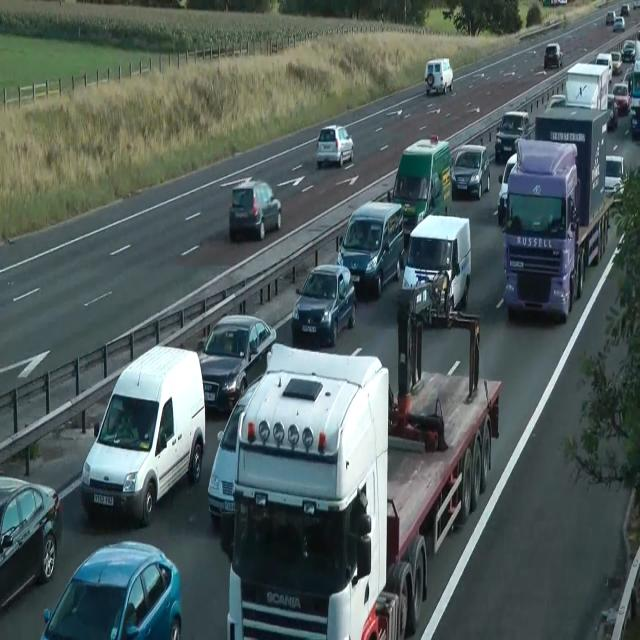bus: (40, 540, 182, 639), (207, 372, 263, 529), (0, 473, 62, 610), (198, 313, 276, 413), (291, 263, 356, 347), (228, 177, 282, 241), (545, 93, 618, 131), (450, 144, 490, 199), (495, 110, 529, 161), (316, 124, 354, 169), (497, 152, 517, 224), (605, 154, 625, 197), (588, 52, 612, 84), (612, 82, 630, 114), (543, 42, 563, 68), (606, 94, 618, 131), (545, 94, 565, 112), (630, 103, 640, 137), (621, 40, 636, 62), (610, 51, 622, 74), (612, 16, 626, 32), (622, 66, 634, 84), (606, 10, 616, 25), (543, 0, 567, 6), (620, 3, 630, 16)
jeep: (80, 342, 206, 526), (399, 212, 472, 324), (336, 199, 404, 297), (424, 57, 453, 95)
minibus: (226, 298, 502, 639), (502, 105, 610, 323), (387, 134, 452, 246), (565, 62, 609, 110), (628, 59, 640, 137)
